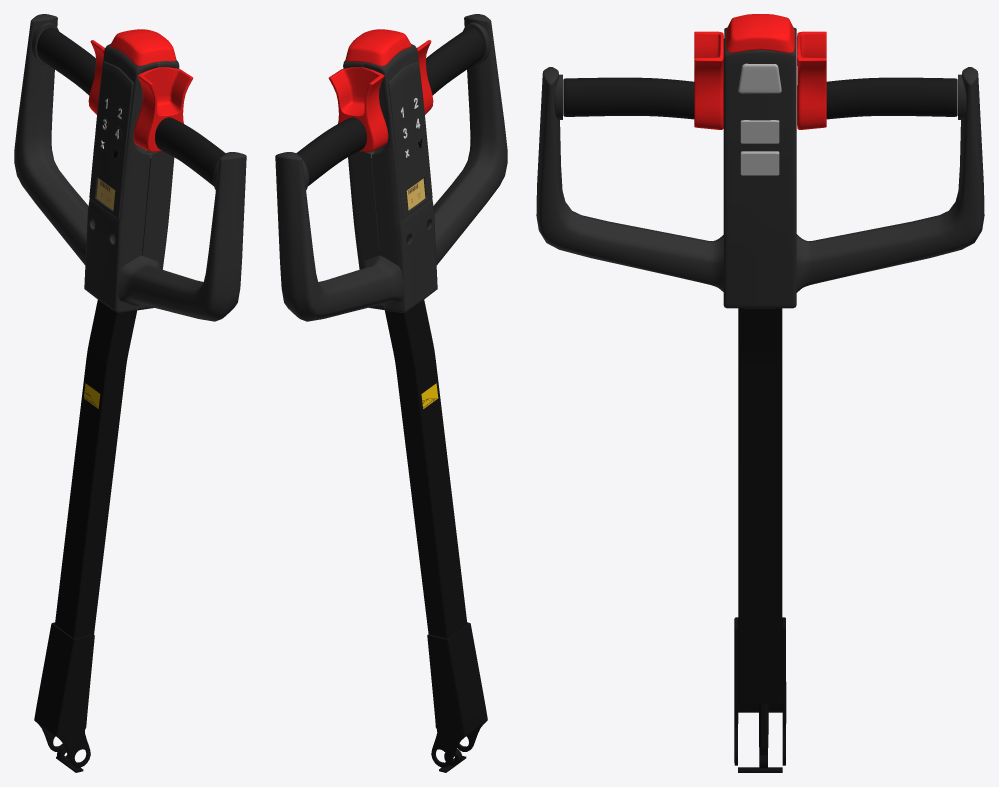
Rendered from 4-handle.dae.
3 views of the same model, side by side, from view 1: azimuth 30°, elevation 25°; view 2: azimuth 150°, elevation 25°; view 3: azimuth 270°, elevation 25° (orthographic). The views are drawn at different scales.
Parts seen in each view (by area): view 1: Object012_Black PVC Fb satin_0, Mesh_11, Object012_Red PVC Fb satin_0, Object012_Graphite Black_0; view 2: Object012_Black PVC Fb satin_0, Mesh_11, Object012_Red PVC Fb satin_0, Object012_Graphite Black_0; view 3: Object012_Black PVC Fb satin_0, Mesh_11, Object012_Graphite Black_0, Object012_Red PVC Fb satin_0, Object012_Silver Grey_0.
Part boxes in pixels (bbox=[...]): Object012_Black PVC Fb satin_0: bbox=[14, 14, 246, 321]; Mesh_11: bbox=[34, 251, 142, 767]; Object012_Red PVC Fb satin_0: bbox=[88, 29, 193, 151]; Object012_Graphite Black_0: bbox=[37, 28, 225, 185]; Object012_Black PVC Fb satin_0: bbox=[275, 14, 507, 321]; Mesh_11: bbox=[379, 251, 487, 767]; Object012_Red PVC Fb satin_0: bbox=[328, 29, 433, 151]; Object012_Graphite Black_0: bbox=[296, 28, 484, 185]; Object012_Black PVC Fb satin_0: bbox=[536, 27, 984, 308]; Mesh_11: bbox=[734, 308, 786, 768]; Object012_Graphite Black_0: bbox=[563, 77, 957, 119]; Object012_Red PVC Fb satin_0: bbox=[694, 14, 826, 129]; Object012_Silver Grey_0: bbox=[738, 63, 781, 175].
Bounding box in the file's own units: 0.1729 × 0.5011 × 0.9744.
Materials: 10 (2 with a texture image).
